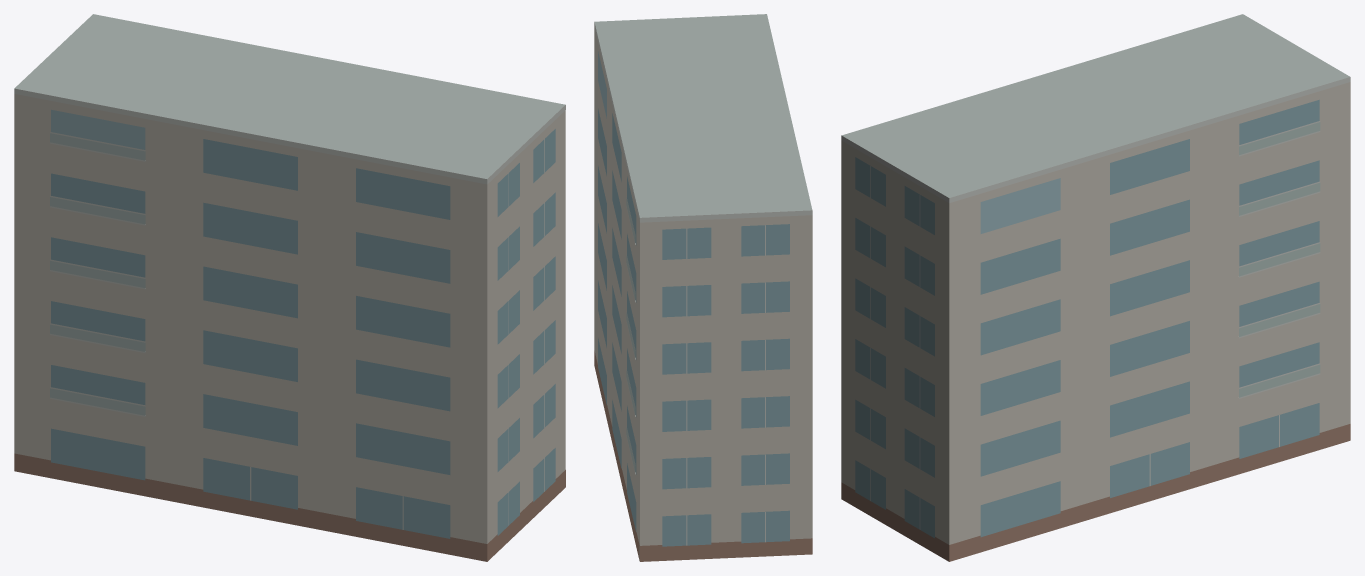
File: survey-upis-32658339.glb
3 views of the same model, side by side, from view 1: azimuth 30°, elevation 25°; view 2: azimuth 150°, elevation 25°; view 3: azimuth 270°, elevation 25° (orthographic). The views are drawn at different scales.
Parts seen in each view (by area): view 1: survey-upis-32658339.tmp; view 2: survey-upis-32658339.tmp; view 3: survey-upis-32658339.tmp.
Boxes of the visible parts, x1,y1,x2,y2 form: survey-upis-32658339.tmp: [14, 14, 565, 561]; survey-upis-32658339.tmp: [594, 14, 812, 561]; survey-upis-32658339.tmp: [841, 14, 1350, 561].
Size of the model in its own units: 19.01 by 17.5 by 22.2.
